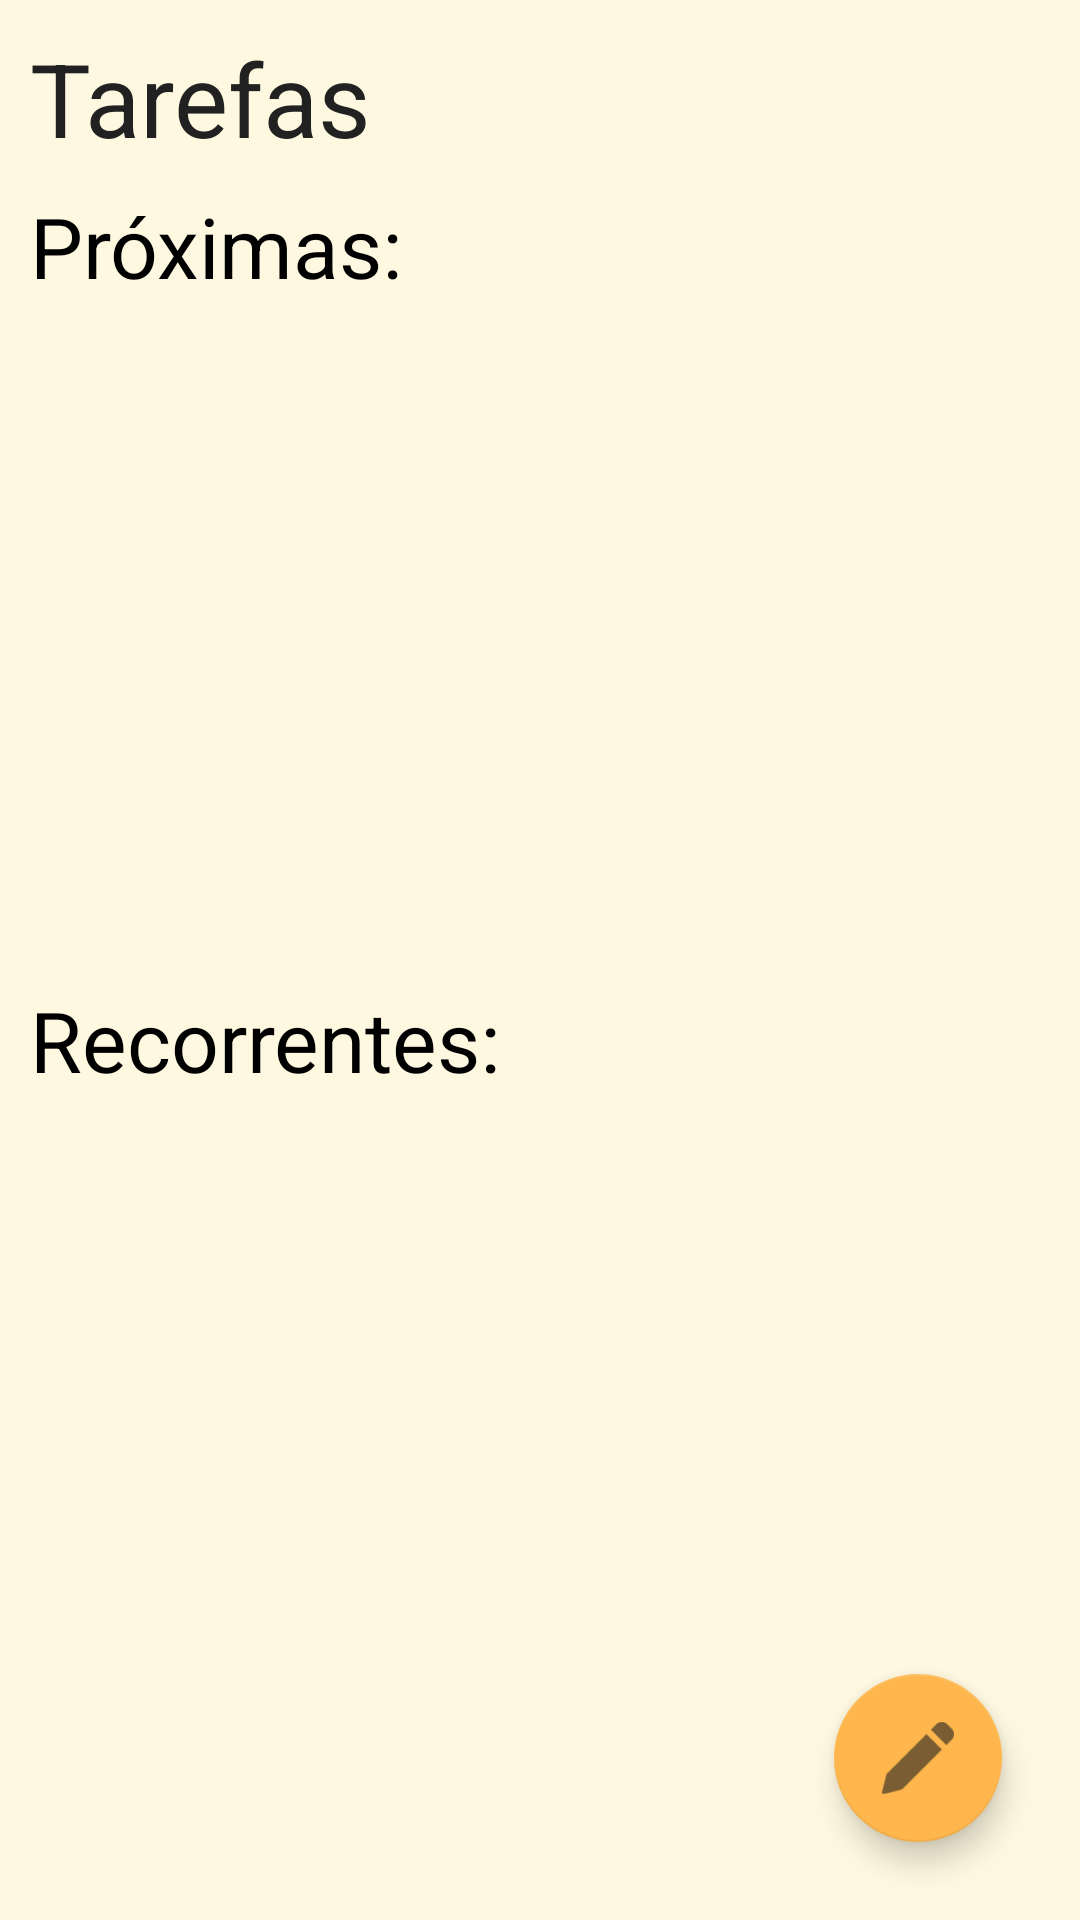

Named icons in this screenshot (1080*1920) and their centers, point (x, y):
pencil: point (918, 1758)
